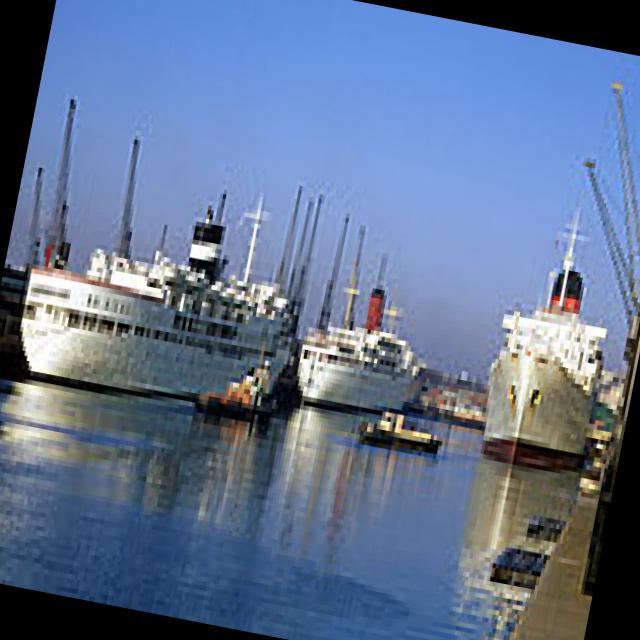boat: (0, 217, 320, 439), (478, 216, 628, 482), (290, 297, 452, 425), (198, 353, 319, 450), (360, 397, 451, 466)
